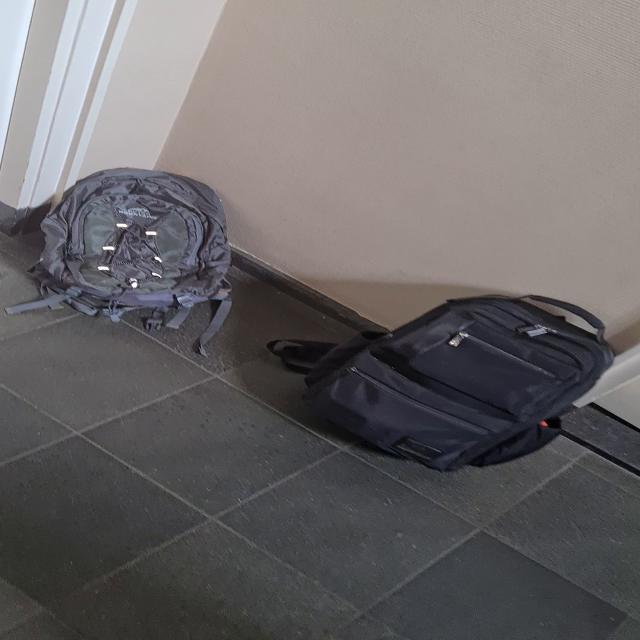backpack: (288, 288, 640, 478), (28, 166, 244, 319)
